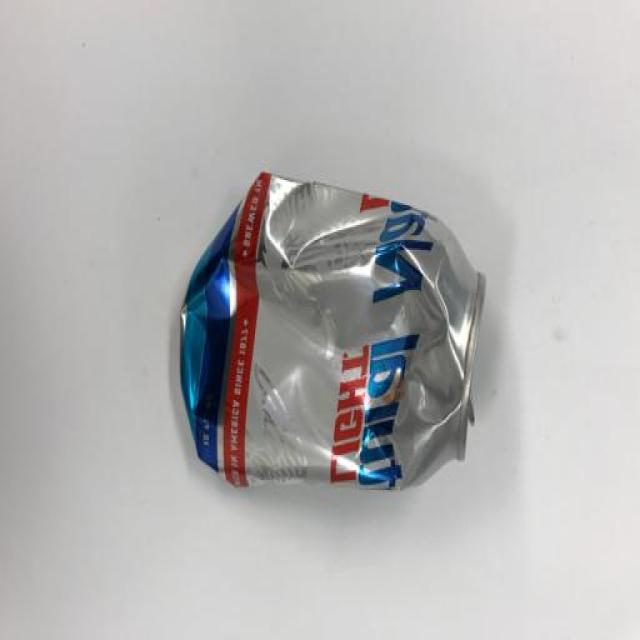Metal: (170, 173, 486, 495)
